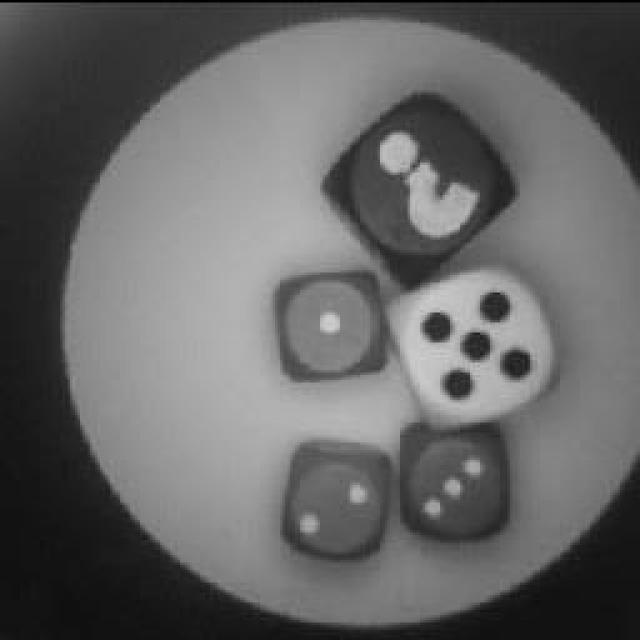dice_1: (270, 260, 390, 382)
dice_2: (275, 438, 397, 562)
dice_3: (388, 415, 522, 543)
dice_5: (395, 262, 553, 430)
